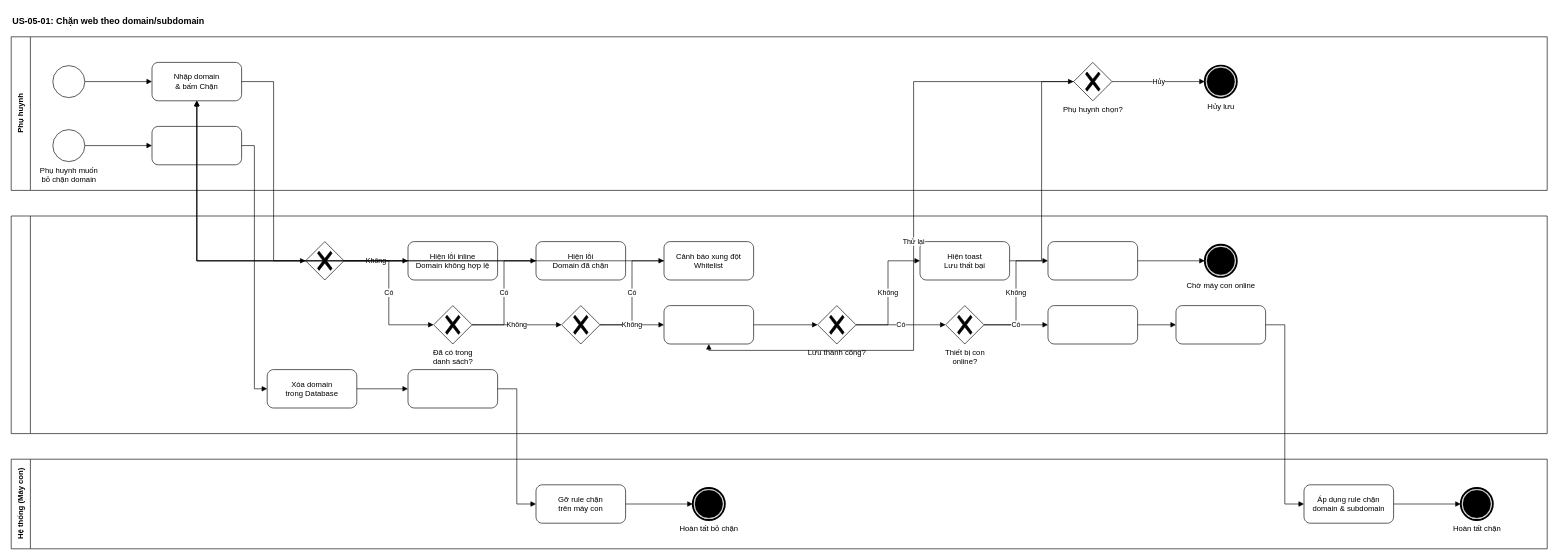
Image size: 1558x560. Some labels were removed from this diagram. The box of each missing label's shape, as (x1, y1, x2, y2) in pixels:
Bấm Bỏ chặn trên domain: (151, 126, 242, 165)
Domain hợp lệ?: (305, 241, 344, 280)
Hiện trạng thái Đã áp dụng ✓: (1175, 305, 1266, 344)
Hệ thống: (11, 215, 1547, 434)
Lưu domain vào Database: (663, 305, 754, 344)
Lưu trạng thái Đang chờ đồng bộ: (1047, 241, 1138, 280)
Phụ huynh muốn chặn domain: (52, 65, 85, 98)
Trùng whitelist?: (561, 305, 600, 344)
Đẩy lệnh gỡ rule xuống máy con: (407, 369, 498, 408)
Đẩy rule chặn xuống máy con: (1047, 305, 1138, 344)
